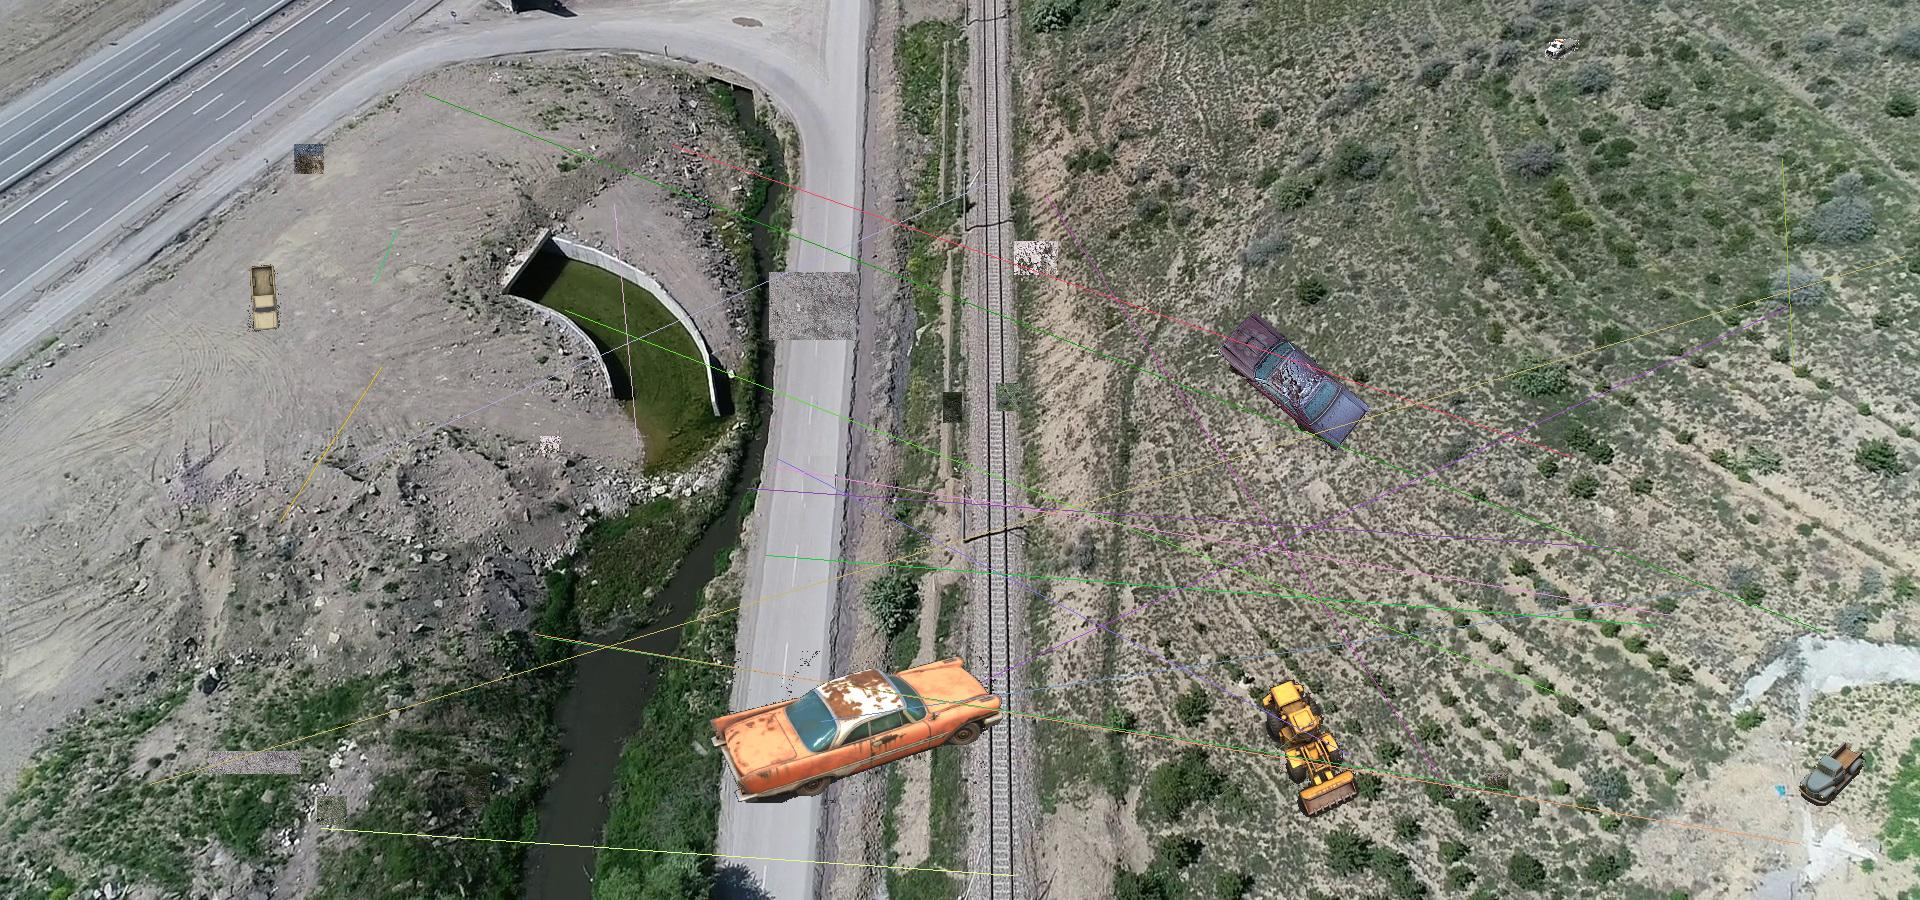arac: (694, 651, 1020, 803), (1212, 307, 1370, 453), (1250, 680, 1368, 818), (1799, 742, 1867, 806), (247, 264, 280, 332), (1545, 36, 1580, 60)
